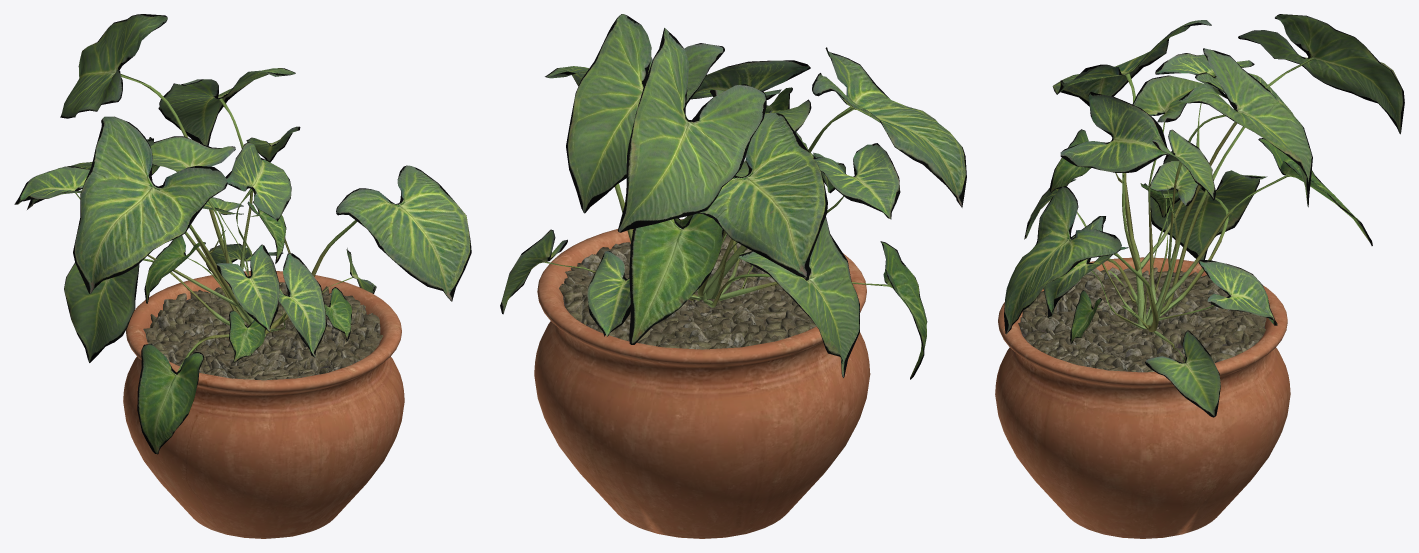
File: potted_plant_02.glb
The picture shows the model from 3 angles, left to right: view 1: azimuth 30°, elevation 25°; view 2: azimuth 150°, elevation 25°; view 3: azimuth 270°, elevation 25°; orthographic projection. The views are drawn at different scales.
Parts seen in each view (by area): view 1: potted_plant_02_leaves, potted_plant_02_pot, potted_plant_02_dirt; view 2: potted_plant_02_leaves, potted_plant_02_pot, potted_plant_02_dirt; view 3: potted_plant_02_leaves, potted_plant_02_pot, potted_plant_02_dirt.
Part boxes in pixels (<box>): potted_plant_02_leaves: <box>14,14,471,454</box>; potted_plant_02_pot: <box>123,271,404,538</box>; potted_plant_02_dirt: <box>143,282,383,380</box>; potted_plant_02_leaves: <box>500,14,966,379</box>; potted_plant_02_pot: <box>534,219,870,538</box>; potted_plant_02_dirt: <box>559,233,816,349</box>; potted_plant_02_leaves: <box>1004,14,1404,417</box>; potted_plant_02_pot: <box>995,257,1290,538</box>; potted_plant_02_dirt: <box>1018,267,1266,372</box>.
Size of the model in its own units: 0.7012 by 0.8412 by 0.6574.
Materials: 2 (2 with a texture image).
